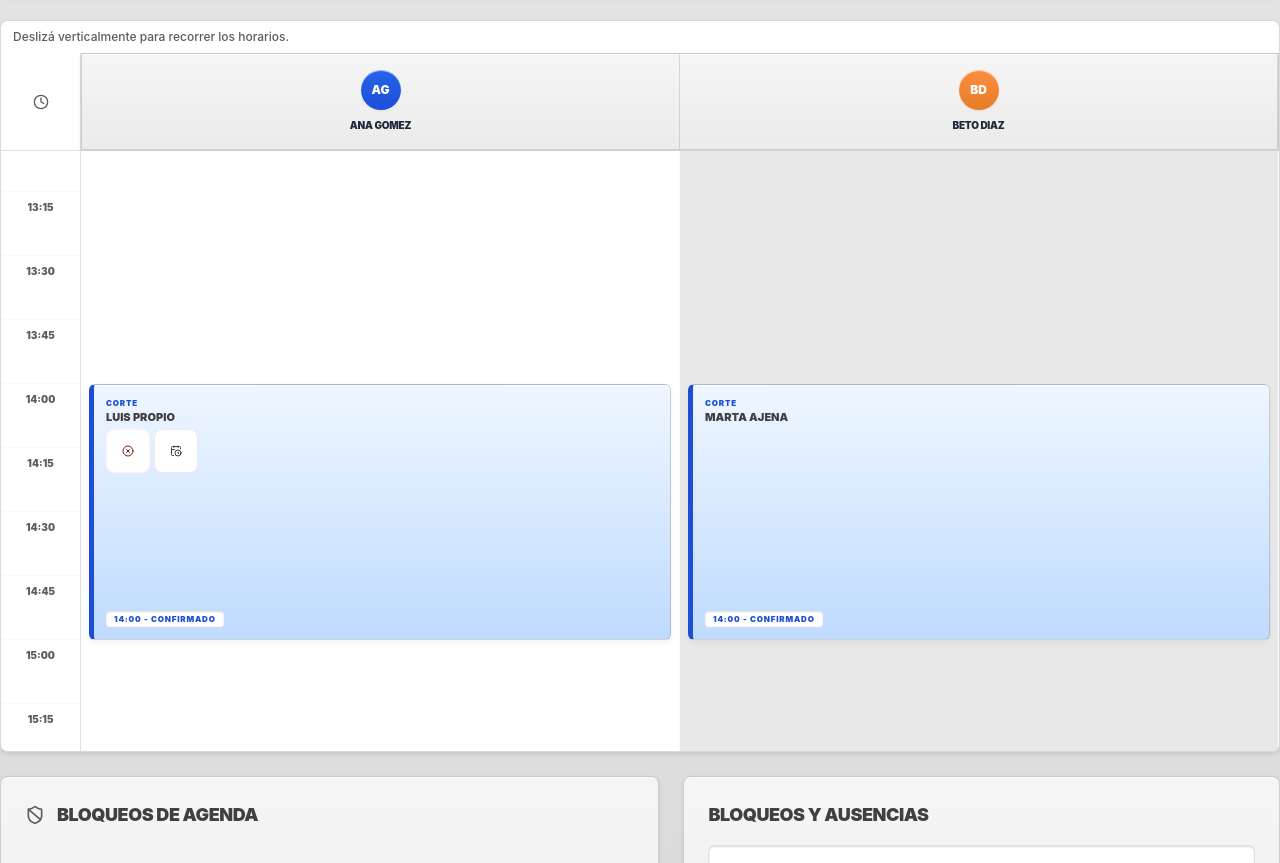
Test case: CalendarContainer - cancelar y reprogramar (FF-31) › cancelar pide confirmacion y cancela el turno elegido
(page scrolled)
Click the button named "Cancelar turno" at [128, 451], box [106,429,150,473]
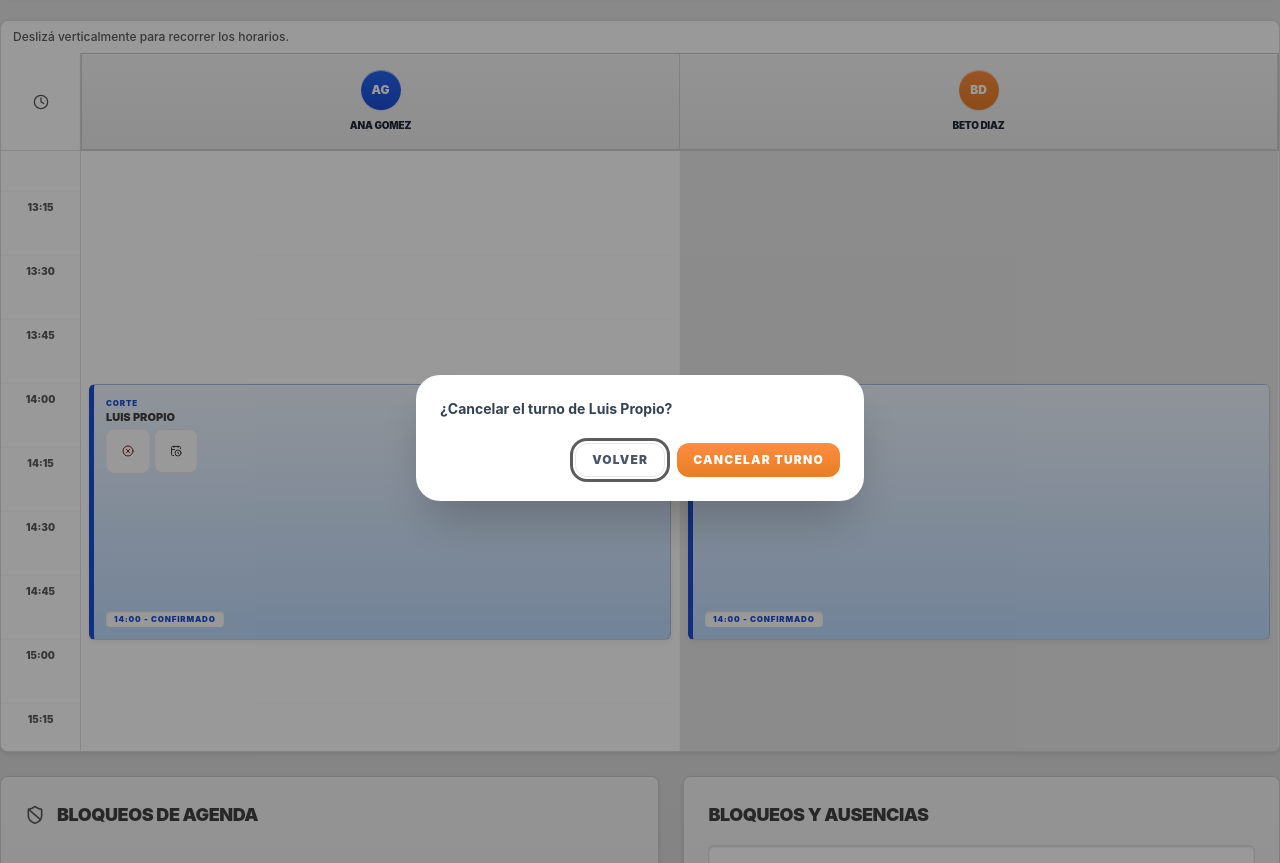
Result: the text "¿Cancelar el turno de Luis Propio?" is shown at [440,400,672,417]
Result: the button "Volver" is shown at [575,443,665,477]
Click the button "Cancelar turno" at [759, 460], box [677,443,840,477]
(page scrolled)
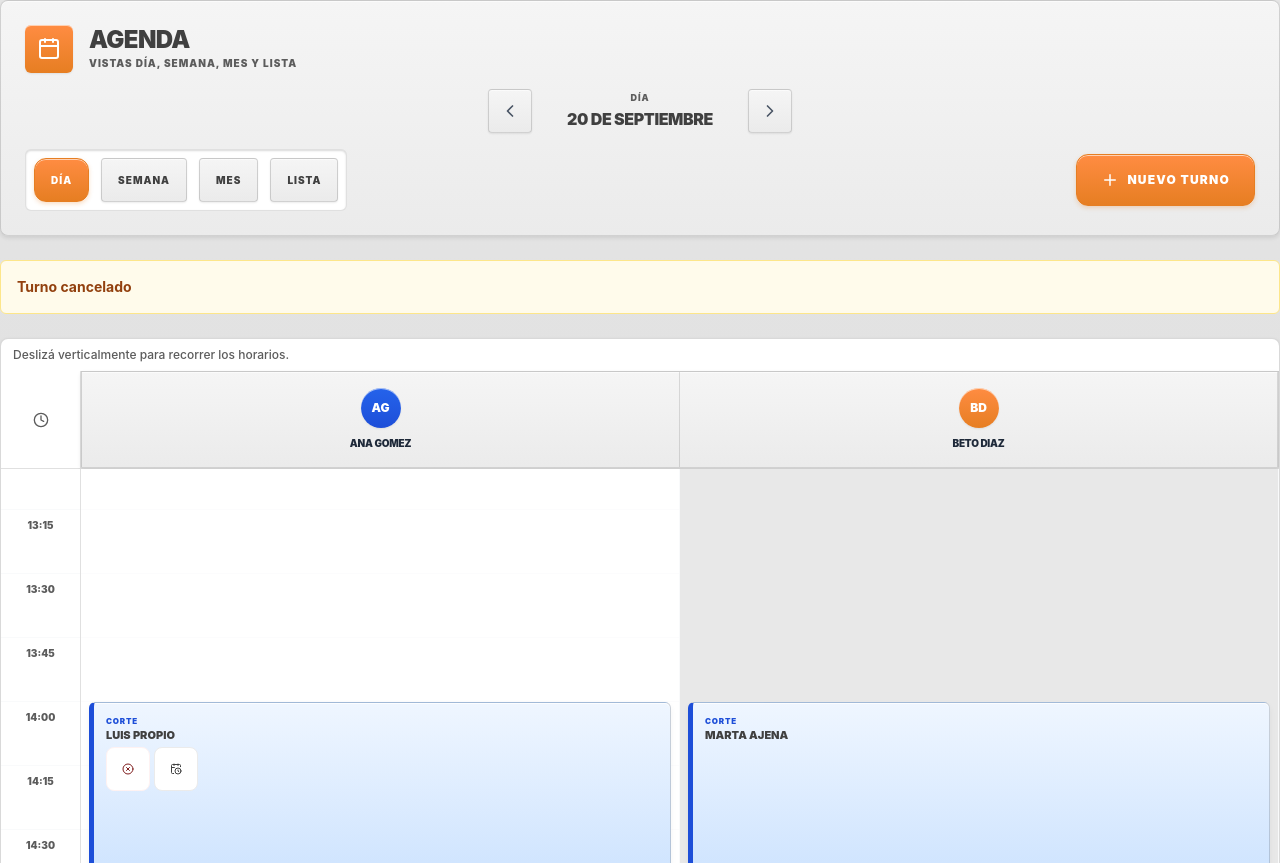
Result: the text "Turno cancelado" is shown at [0,260,1279,314]
